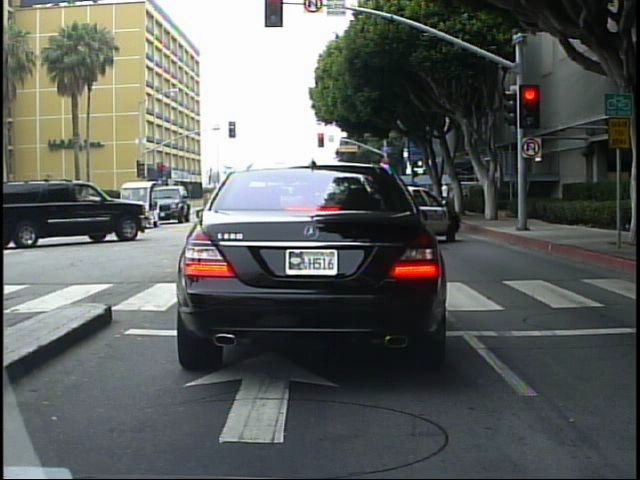person: (438, 179, 453, 212)
